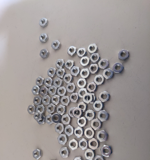nut: (91, 119, 103, 131), (99, 91, 111, 103), (103, 69, 115, 80), (101, 146, 113, 157), (74, 127, 85, 139), (85, 110, 96, 122), (112, 64, 125, 74), (119, 50, 130, 61), (98, 131, 109, 142), (99, 111, 110, 122), (99, 59, 110, 70), (91, 53, 102, 64), (60, 147, 70, 159), (79, 139, 89, 151), (69, 139, 79, 151), (83, 93, 93, 105), (93, 101, 105, 111), (33, 149, 43, 160), (40, 49, 50, 60), (39, 33, 49, 44), (51, 40, 61, 51), (85, 150, 96, 160), (77, 117, 87, 128), (88, 44, 99, 54), (71, 66, 81, 77), (85, 128, 95, 139), (89, 140, 100, 150), (65, 126, 75, 137), (77, 102, 87, 113), (68, 108, 78, 119), (95, 75, 105, 86), (78, 78, 88, 89), (80, 68, 91, 78), (56, 58, 66, 69), (65, 59, 75, 70), (39, 18, 49, 28), (58, 135, 68, 145), (89, 64, 99, 74), (61, 96, 71, 106), (80, 57, 90, 67), (55, 124, 65, 134), (67, 83, 77, 93), (62, 115, 72, 125), (70, 93, 80, 103), (79, 88, 89, 98), (48, 86, 58, 96), (48, 68, 57, 79), (87, 93, 96, 104), (36, 76, 45, 87), (64, 74, 73, 85), (68, 46, 77, 56), (57, 106, 66, 116), (88, 83, 97, 93), (54, 78, 63, 88), (44, 78, 54, 87), (78, 47, 86, 58), (46, 114, 54, 125), (47, 105, 56, 114), (58, 87, 67, 96), (52, 115, 61, 124), (33, 97, 42, 106), (36, 105, 45, 114), (34, 112, 43, 121), (37, 116, 46, 125), (57, 69, 66, 78), (28, 105, 36, 115), (43, 96, 51, 106), (73, 109, 81, 119), (52, 96, 60, 106), (32, 86, 40, 95), (40, 88, 48, 96), (73, 156, 83, 160), (95, 156, 105, 160)
